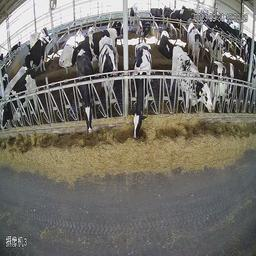cow: (170, 44, 212, 114), (2, 67, 38, 129), (131, 42, 153, 141), (74, 48, 96, 144), (97, 36, 120, 107), (209, 60, 241, 111), (23, 35, 53, 74), (59, 28, 84, 70), (185, 19, 201, 71), (202, 23, 217, 66), (159, 25, 176, 62), (128, 5, 139, 33), (149, 6, 163, 28), (140, 19, 151, 37)
